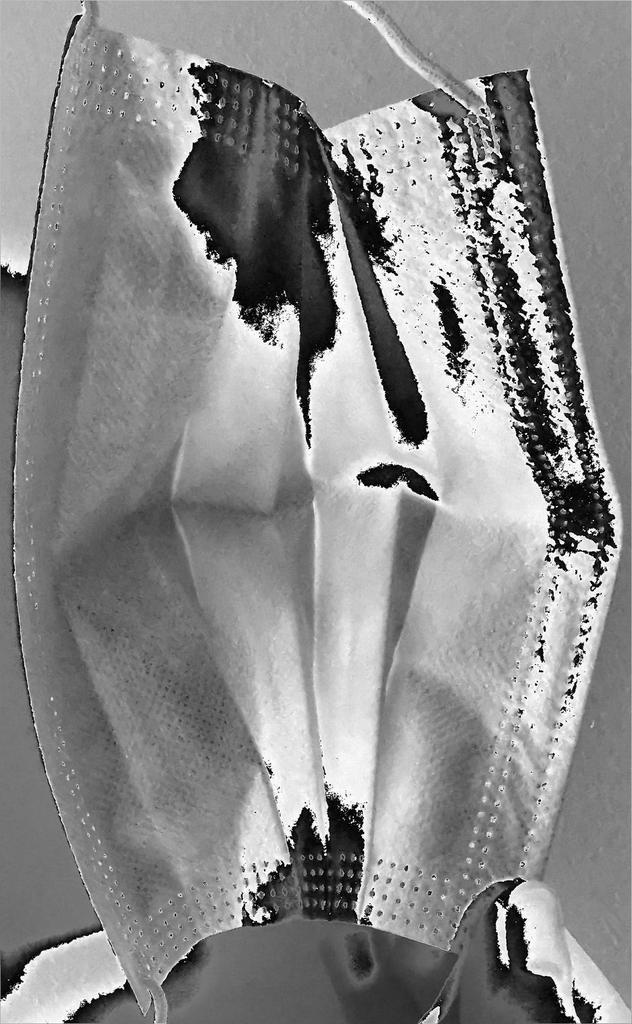High GSM: (66, 132, 499, 880)
